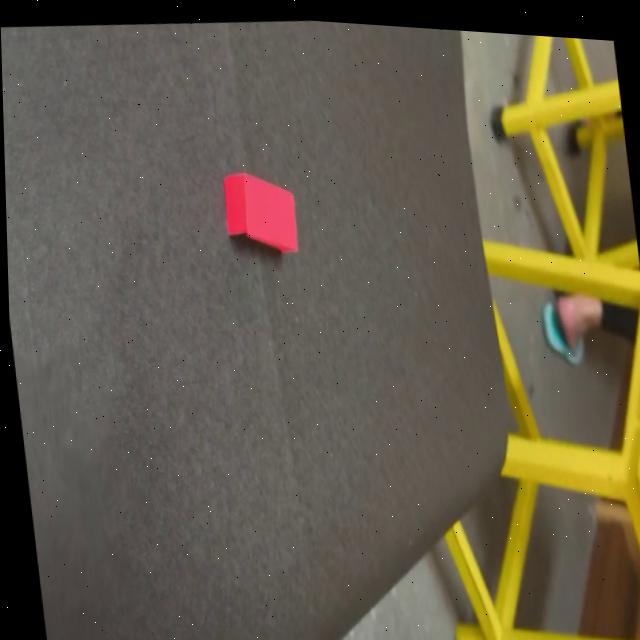red block: (220, 167, 301, 261)
